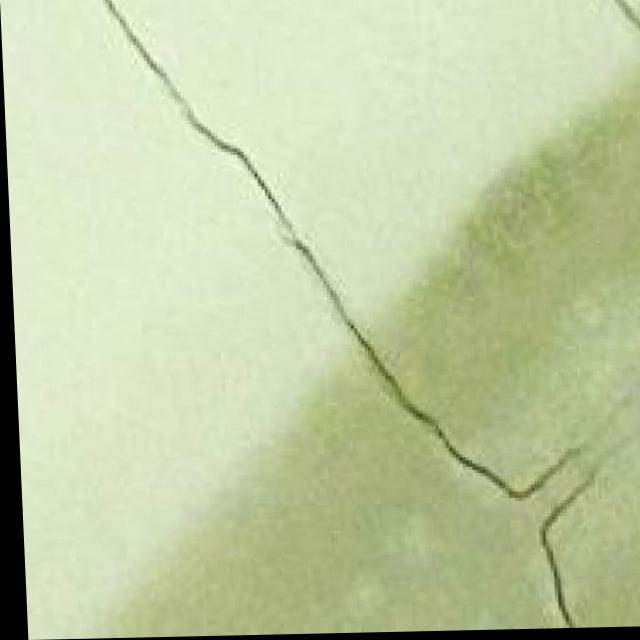Crack: (74, 0, 624, 639)
